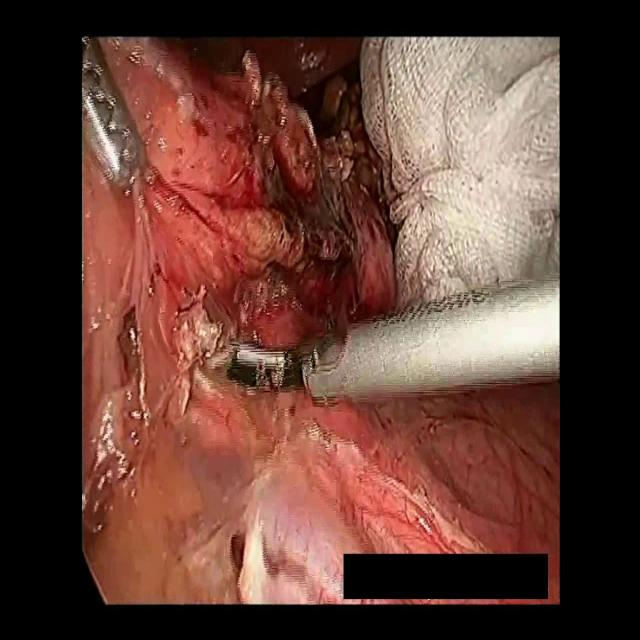surgical-area: (82, 36, 560, 604)
surgical-tool: (301, 273, 558, 406)
